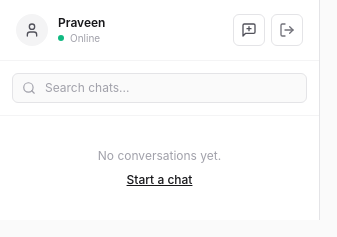
it: Responsive Chat Navigation & Layout › allows clearing search input in Sidebar
Step 1. Type "priya" into the field with placeholder "Search chats..." → (160, 88), box left=12, top=73, right=307, bottom=103
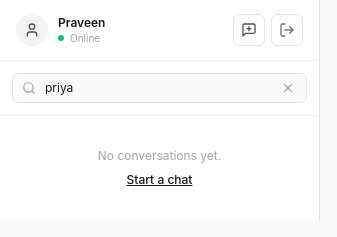
Check: the button named "clear search" is shown
Step 2. Click the button named "clear search" → (288, 88), box left=279, top=79, right=297, bottom=97
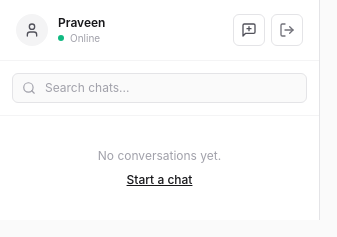
Check: the field with placeholder "Search chats..." is empty, box left=12, top=73, right=307, bottom=103
